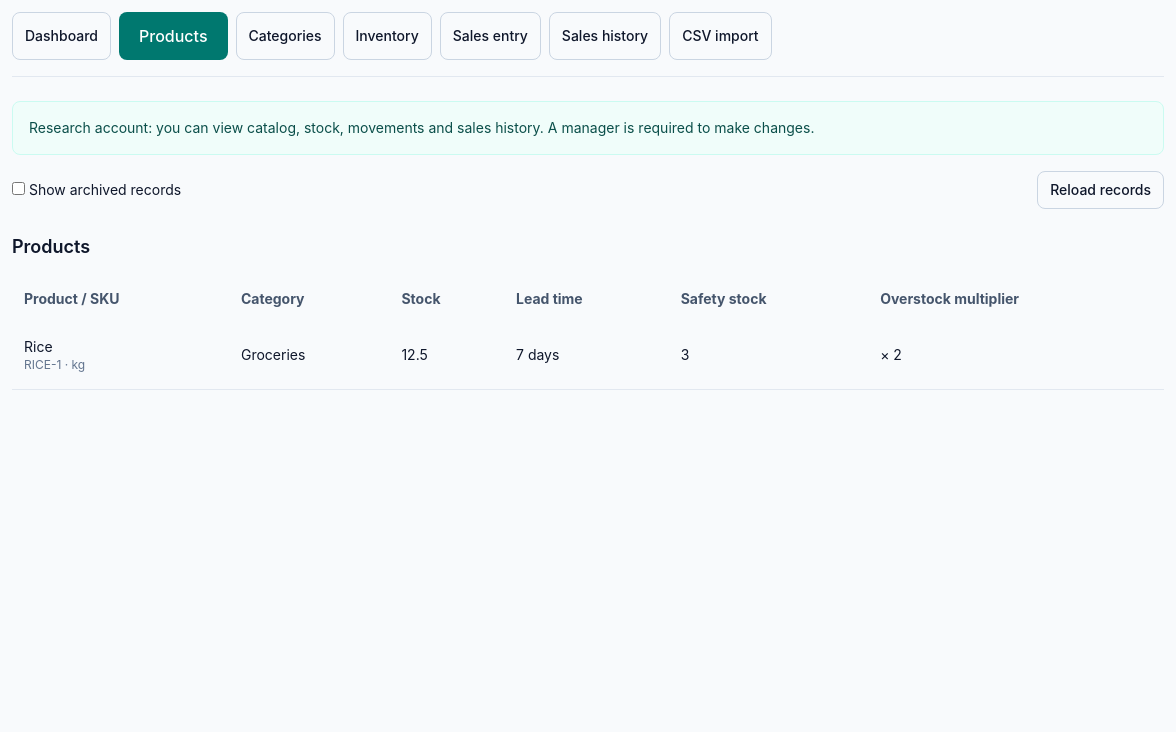
Scenario: researcher sees records and history without mutation controls
Check: the text "Rice" is shown, box [24,338,53,355]
Click the button "Inventory" at (387, 36), box [342,12,432,60]
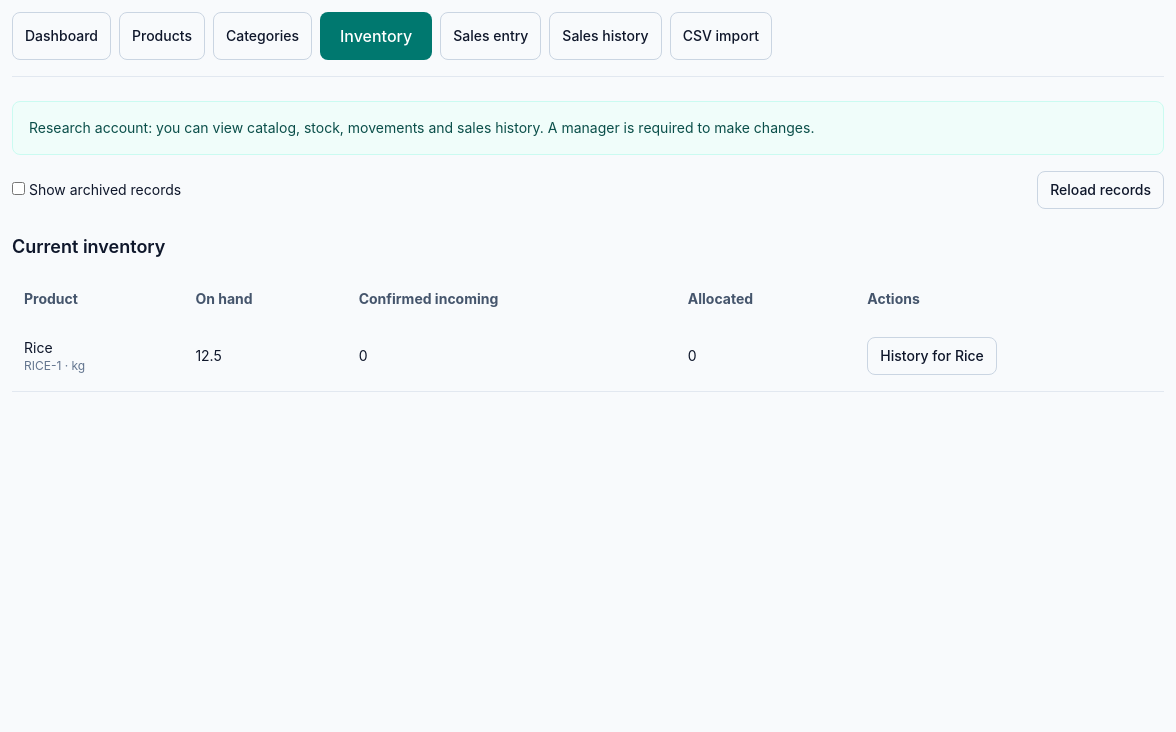
Click the button "History for Rice" at (932, 356), box [867,337,997,375]
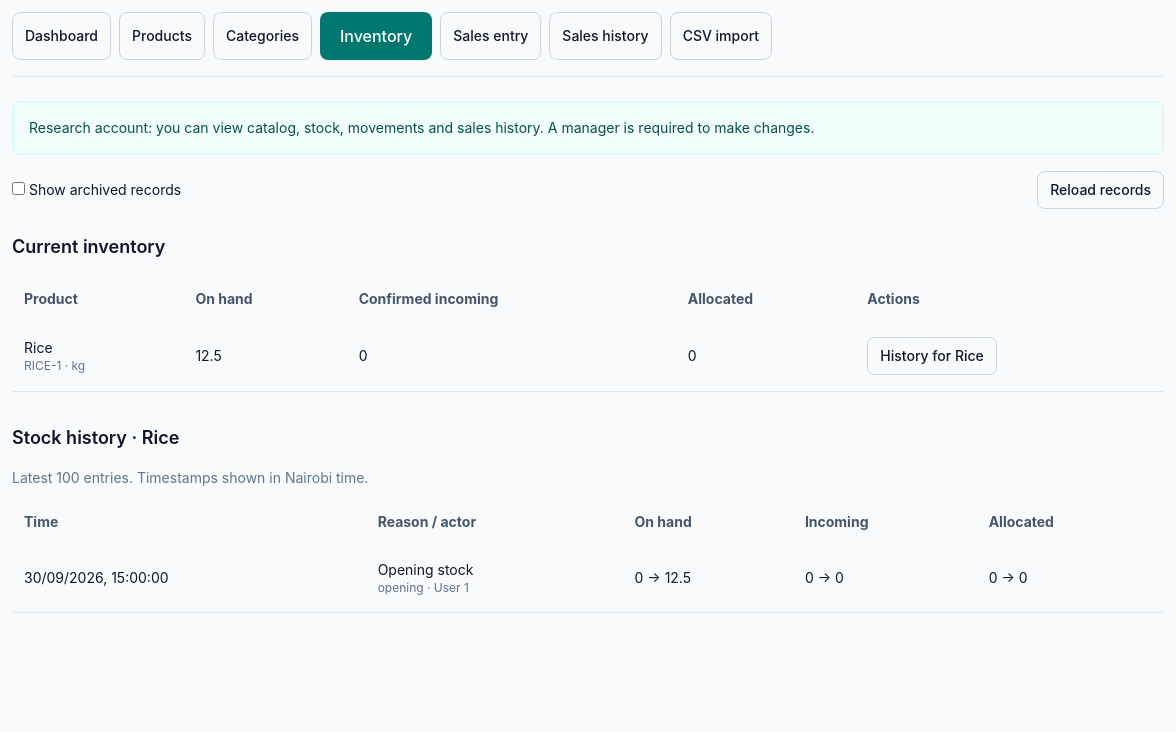
Check: the element "Stock history" shows "Opening stock", box [378,561,473,578]
